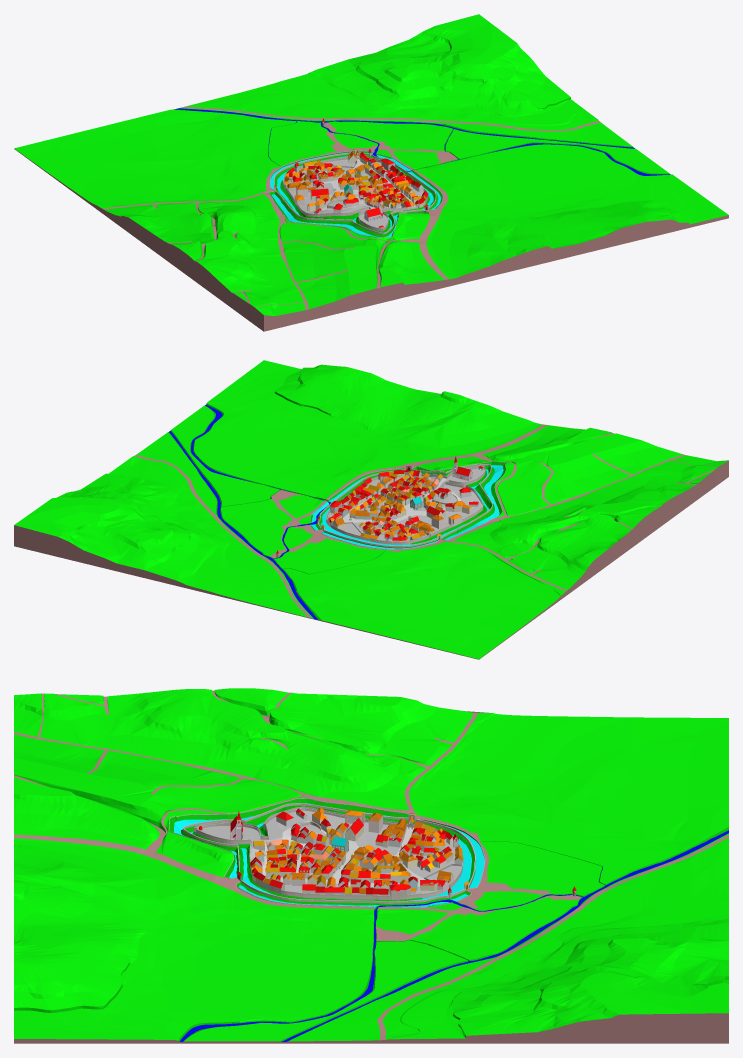
3 views of the same model, one above another, from view 1: azimuth 30°, elevation 25°; view 2: azimuth 150°, elevation 25°; view 3: azimuth 270°, elevation 25° (orthographic). The views are drawn at different scales.
Parts seen in each view (by area): view 1: 23TFxdxQnATwMxUze0pMMC, 0$kD52Dr98jR$fTTyNaGrW, 04$4$sNGv1MfvYu5O3lkcW, 1MZDt3eCH4agT$V6$DyXGm, 05hREyEmr2Q87RZGmjkknM, 1u1wSuG5LBVflXR68o21M3, 3aNQQZBBT5hfXaNIGJKBPv, 1AnQg8u1XDee4dF0oVJyMm, 3M_fKpVVf4Xhj8Nv7NQgQv, 2v2ZjusL51UANZvXAwaUQZ, 2N6mhTtLLFHRKlGWAHskyv, 2P0pLN8zn2bB4MKSqudRYH (+1 smaller); view 2: 23TFxdxQnATwMxUze0pMMC, 0$kD52Dr98jR$fTTyNaGrW, 04$4$sNGv1MfvYu5O3lkcW, 1MZDt3eCH4agT$V6$DyXGm, 05hREyEmr2Q87RZGmjkknM, 1AnQg8u1XDee4dF0oVJyMm, 1u1wSuG5LBVflXR68o21M3, 3aNQQZBBT5hfXaNIGJKBPv, 3M_fKpVVf4Xhj8Nv7NQgQv, 2P0pLN8zn2bB4MKSqudRYH, 2N6mhTtLLFHRKlGWAHskyv, 2jJwGJnTT2684lc5iJW91I (+3 smaller); view 3: 23TFxdxQnATwMxUze0pMMC, 0$kD52Dr98jR$fTTyNaGrW, 04$4$sNGv1MfvYu5O3lkcW, 05hREyEmr2Q87RZGmjkknM, 1MZDt3eCH4agT$V6$DyXGm, 1AnQg8u1XDee4dF0oVJyMm, 1u1wSuG5LBVflXR68o21M3, 3aNQQZBBT5hfXaNIGJKBPv, 3M_fKpVVf4Xhj8Nv7NQgQv, 2P0pLN8zn2bB4MKSqudRYH, 2jJwGJnTT2684lc5iJW91I, 2v2ZjusL51UANZvXAwaUQZ (+4 smaller).
Part boxes in pixels (<box>): 23TFxdxQnATwMxUze0pMMC: <box>105,144,728,315</box>; 0$kD52Dr98jR$fTTyNaGrW: <box>14,109,668,208</box>; 04$4$sNGv1MfvYu5O3lkcW: <box>179,14,632,146</box>; 1MZDt3eCH4agT$V6$DyXGm: <box>14,148,728,331</box>; 05hREyEmr2Q87RZGmjkknM: <box>103,106,600,309</box>; 1u1wSuG5LBVflXR68o21M3: <box>175,108,670,175</box>; 3aNQQZBBT5hfXaNIGJKBPv: <box>173,108,669,174</box>; 1AnQg8u1XDee4dF0oVJyMm: <box>284,159,423,227</box>; 3M_fKpVVf4Xhj8Nv7NQgQv: <box>269,151,442,237</box>; 2v2ZjusL51UANZvXAwaUQZ: <box>274,154,435,232</box>; 2N6mhTtLLFHRKlGWAHskyv: <box>270,152,441,237</box>; 2P0pLN8zn2bB4MKSqudRYH: <box>283,156,427,231</box>; 23TFxdxQnATwMxUze0pMMC: <box>194,360,728,589</box>; 0$kD52Dr98jR$fTTyNaGrW: <box>171,405,565,658</box>; 04$4$sNGv1MfvYu5O3lkcW: <box>14,432,313,618</box>; 1MZDt3eCH4agT$V6$DyXGm: <box>14,460,728,659</box>; 05hREyEmr2Q87RZGmjkknM: <box>134,424,718,618</box>; 1AnQg8u1XDee4dF0oVJyMm: <box>327,468,484,541</box>; 1u1wSuG5LBVflXR68o21M3: <box>169,404,380,619</box>; 3aNQQZBBT5hfXaNIGJKBPv: <box>168,403,385,620</box>; 3M_fKpVVf4Xhj8Nv7NQgQv: <box>310,461,505,548</box>; 2P0pLN8zn2bB4MKSqudRYH: <box>326,465,485,544</box>; 2N6mhTtLLFHRKlGWAHskyv: <box>311,465,503,548</box>; 2jJwGJnTT2684lc5iJW91I: <box>318,464,492,547</box>; 23TFxdxQnATwMxUze0pMMC: <box>14,688,473,1040</box>; 0$kD52Dr98jR$fTTyNaGrW: <box>184,712,728,1041</box>; 04$4$sNGv1MfvYu5O3lkcW: <box>289,833,728,1041</box>; 05hREyEmr2Q87RZGmjkknM: <box>14,690,728,1040</box>; 1MZDt3eCH4agT$V6$DyXGm: <box>14,711,728,1043</box>; 1AnQg8u1XDee4dF0oVJyMm: <box>198,810,461,895</box>; 1u1wSuG5LBVflXR68o21M3: <box>179,830,728,1041</box>; 3aNQQZBBT5hfXaNIGJKBPv: <box>178,827,728,1041</box>; 3M_fKpVVf4Xhj8Nv7NQgQv: <box>169,798,484,906</box>; 2P0pLN8zn2bB4MKSqudRYH: <box>193,806,462,899</box>; 2jJwGJnTT2684lc5iJW91I: <box>183,803,475,903</box>; 2v2ZjusL51UANZvXAwaUQZ: <box>185,805,474,901</box>.
Size of the model in its own units: 988 by 62.73 by 919.
